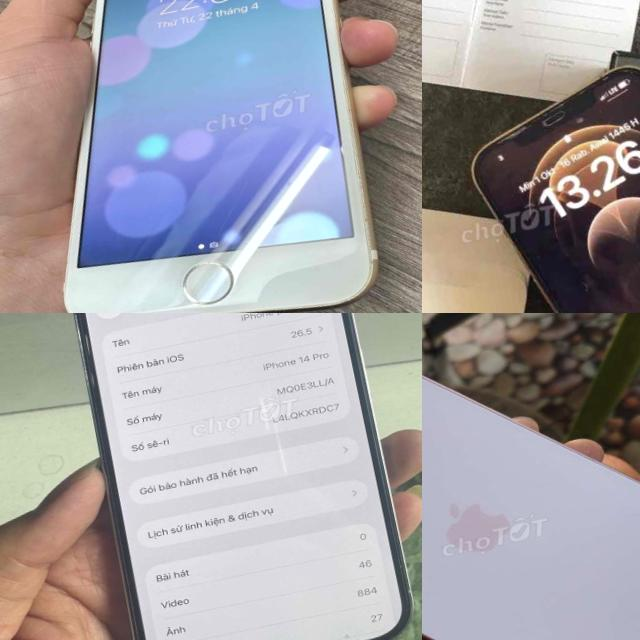physical_damage: (482, 107, 556, 154)
